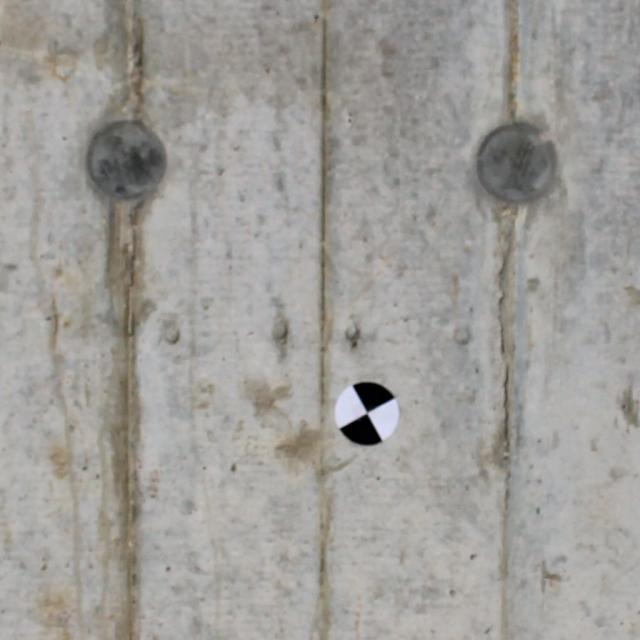D10: (478, 118, 565, 209)
